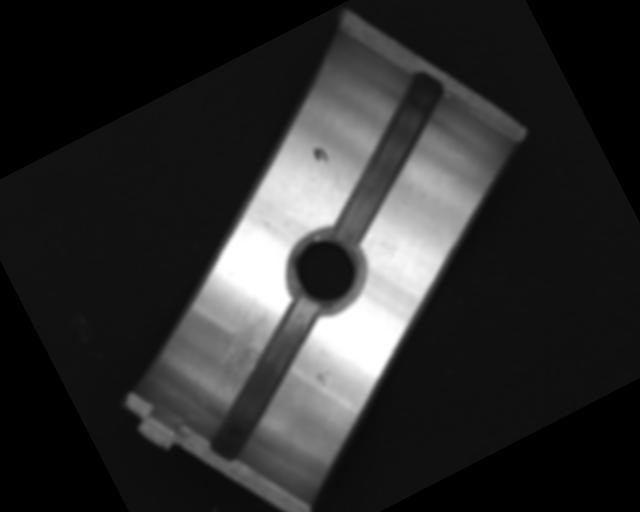blot: (310, 143, 331, 167)
bruise: (311, 366, 337, 391)
gap: (290, 67, 487, 249), (170, 295, 360, 467)
hole: (275, 221, 375, 324)
nick: (245, 197, 286, 246)
scratch: (187, 301, 297, 402)
